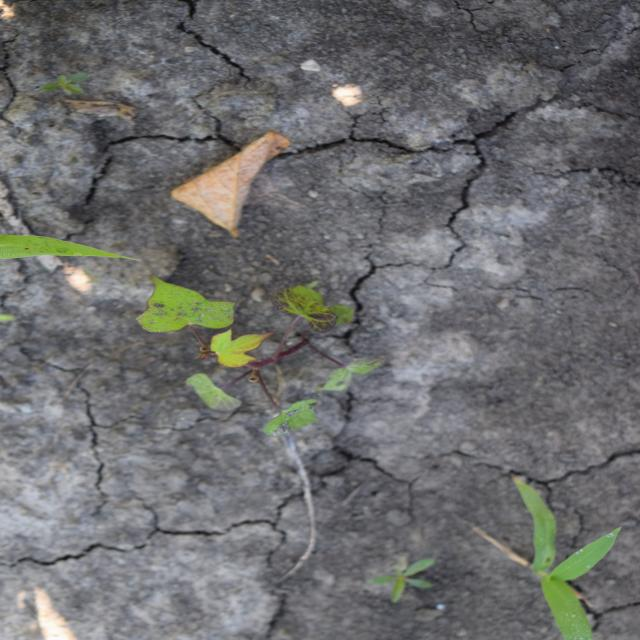MorningGlory: (133, 274, 390, 438)
